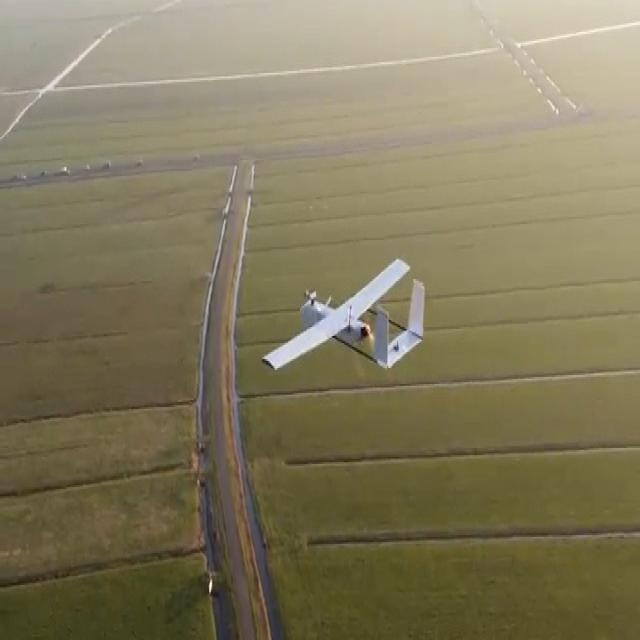drones: (265, 250, 435, 385)
